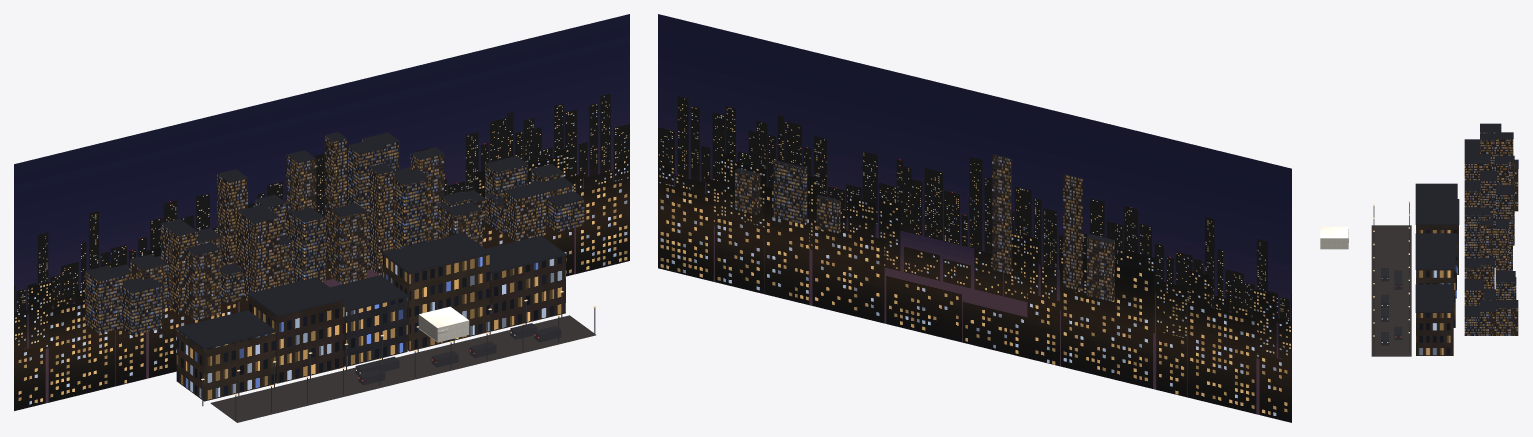
File: apartment_living.glb
3 renders of one model, left to right at view 1: azimuth 30°, elevation 25°; view 2: azimuth 150°, elevation 25°; view 3: azimuth 270°, elevation 25°, orthographic. The views are drawn at different scales.
Parts seen in each view (by area): view 1: city_sky, city_street, city_block_1, city_block_4, city_block_3, city_block_0, city_block_2, city_tower_0_12, city_tower_0_10, city_tower_0_9, city_block_1_roof, city_tower_0_13 (+23 smaller); view 2: city_sky, city_tower_2_32, city_tower_2_34, city_tower_2_27, city_tower_2_35, city_tower_2_26, city_tower_2_28; view 3: city_street, city_block_0, city_block_1_roof, city_block_3_roof, city_block_0_roof, city_tower_0_8, city_block_1, city_block_4_roof, city_tower_2_26, city_tower_2_30, city_tower_1_19, city_tower_2_29 (+23 smaller).
Part boxes in pixels (box(x1,y1,x2,y2)): city_sky: box(14, 14, 629, 410); city_street: box(210, 315, 595, 422); city_block_1: box(383, 254, 489, 351); city_block_4: box(176, 330, 275, 401); city_block_3: box(248, 296, 344, 383); city_block_0: box(489, 256, 565, 331); city_block_2: box(344, 297, 407, 366); city_tower_0_12: box(237, 212, 280, 301); city_tower_0_10: box(330, 210, 366, 284); city_tower_0_9: box(369, 167, 394, 275); city_block_1_roof: box(382, 233, 490, 273); city_tower_0_13: box(185, 249, 220, 320); city_sky: box(658, 14, 1291, 422); city_tower_2_32: box(992, 155, 1011, 274); city_tower_2_34: box(1063, 174, 1082, 290); city_tower_2_27: box(773, 161, 807, 224); city_tower_2_35: box(1087, 237, 1114, 301); city_tower_2_26: box(735, 171, 760, 214); city_tower_2_28: box(817, 197, 840, 233); city_street: box(1371, 225, 1411, 356); city_block_0: box(1416, 313, 1453, 355); city_block_1_roof: box(1415, 239, 1455, 269); city_block_3_roof: box(1415, 199, 1459, 224); city_block_0_roof: box(1415, 284, 1453, 312); city_tower_0_8: box(1464, 215, 1490, 258); city_block_1: box(1416, 270, 1455, 327); city_block_4_roof: box(1415, 183, 1457, 198); city_tower_2_26: box(1495, 308, 1518, 335); city_tower_2_30: box(1495, 194, 1512, 270); city_tower_1_19: box(1480, 180, 1497, 267); city_tower_2_29: box(1495, 229, 1508, 270).
Bounding box in the file's own units: 120 × 46 × 44.78.
35 materials, 16 textured.
